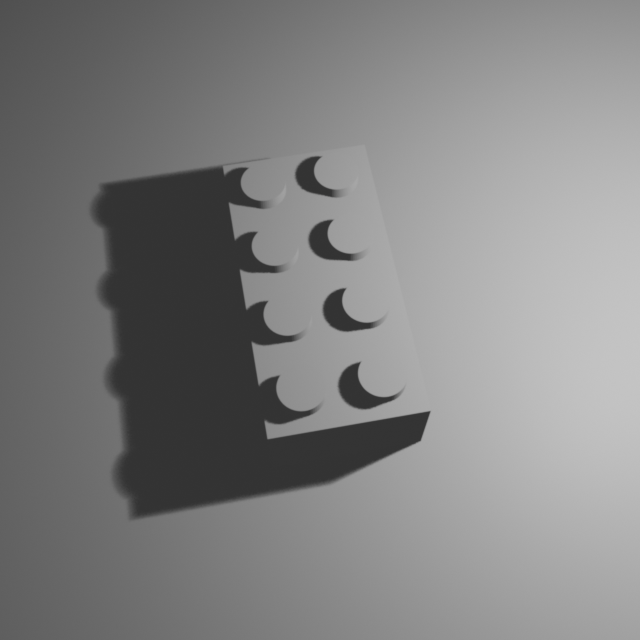lego_2x4: (221, 136, 433, 468)
